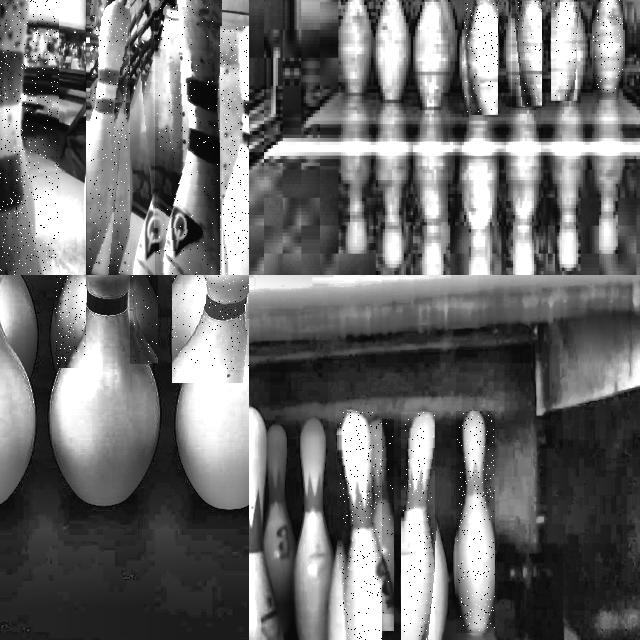bowling-pins: (49, 275, 160, 507), (157, 0, 221, 275), (177, 275, 249, 509), (89, 0, 129, 275), (340, 411, 381, 640), (293, 418, 333, 640), (457, 412, 494, 633), (249, 407, 283, 640), (403, 412, 435, 640), (220, 28, 249, 275), (0, 321, 36, 504), (263, 425, 294, 635), (366, 419, 394, 614), (464, 0, 498, 114), (413, 0, 448, 110), (172, 275, 210, 370), (373, 0, 408, 101), (339, 0, 371, 94), (514, 0, 541, 108), (55, 275, 86, 367), (593, 0, 622, 96), (132, 275, 157, 364), (554, 0, 576, 101), (443, 0, 455, 91)
